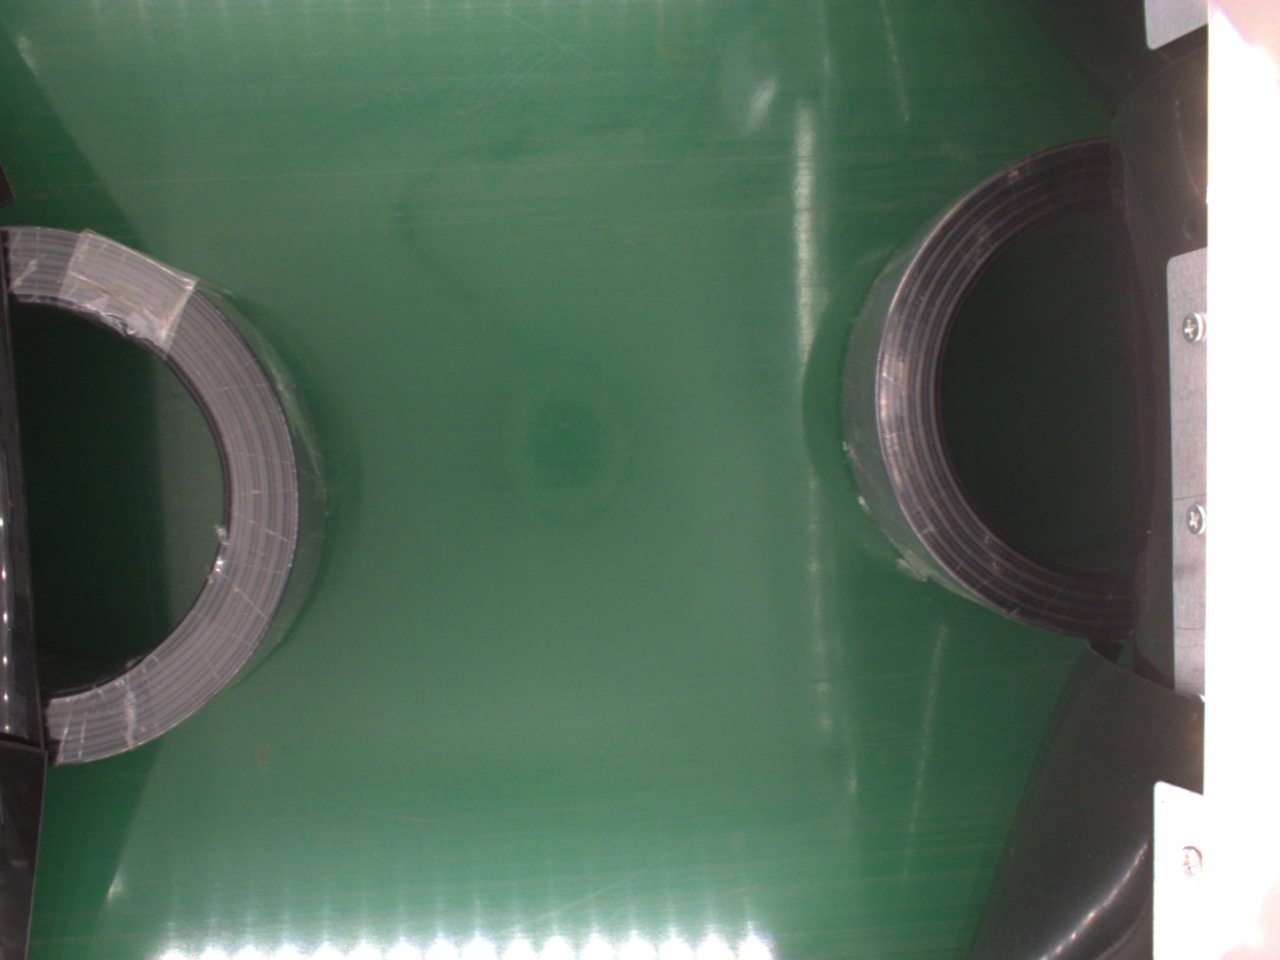black: (8, 223, 329, 771), (843, 136, 1153, 649)
